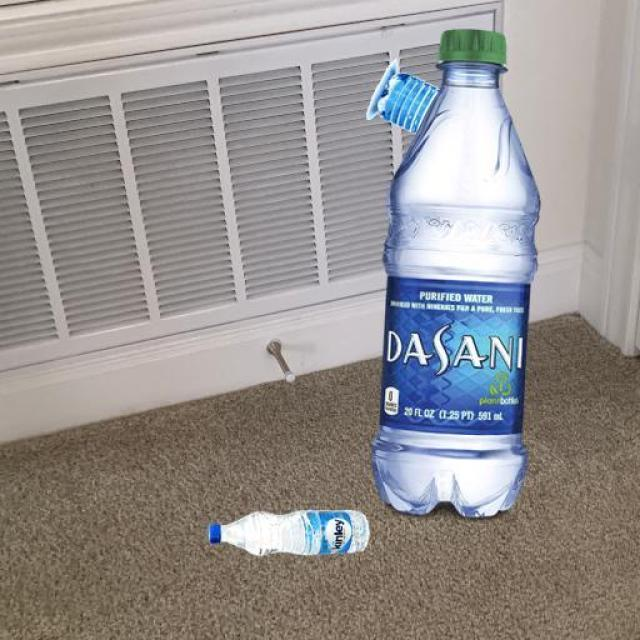bottle: (360, 24, 551, 525), (195, 494, 383, 584)
